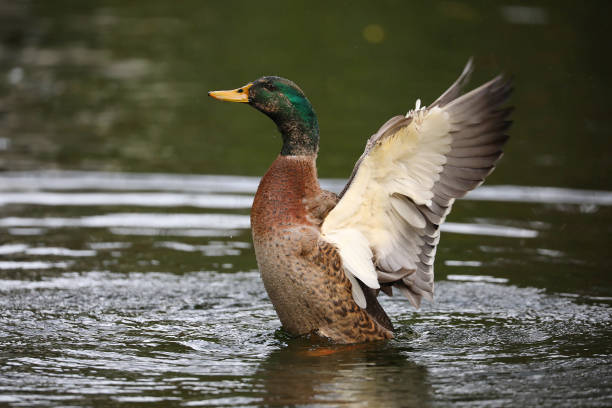goose: (202, 60, 500, 358)
